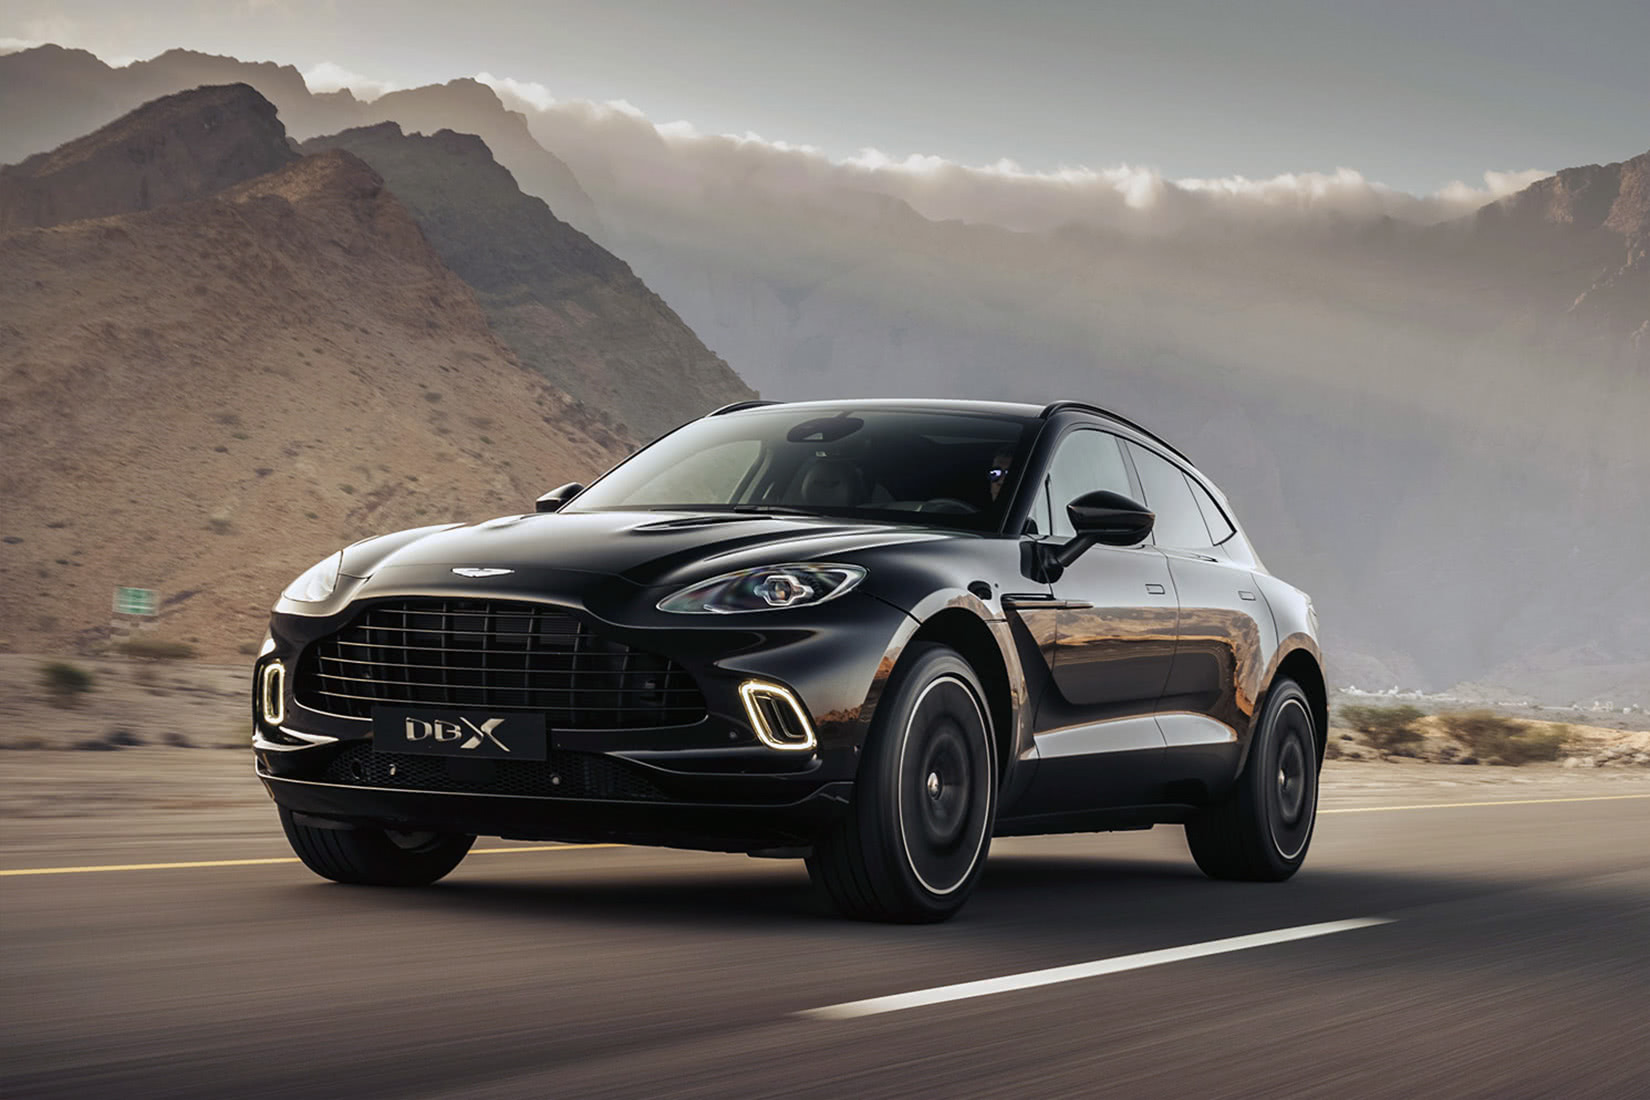car: (250, 397, 1330, 924)
